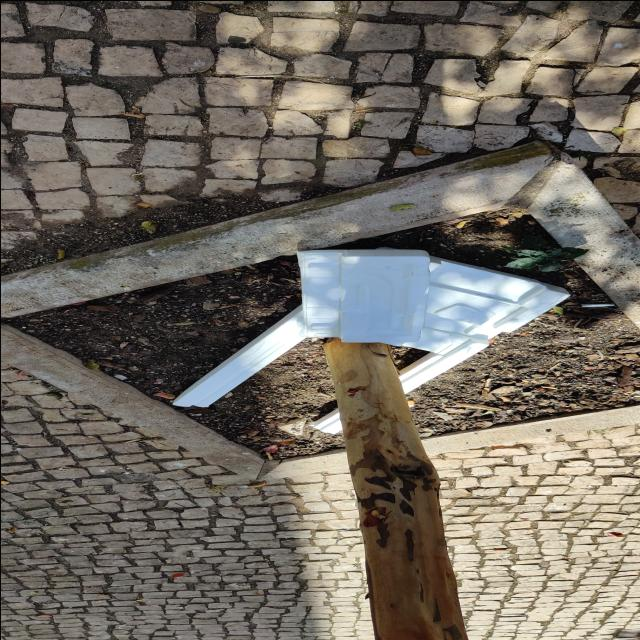Cigarette: (580, 303, 613, 306), (124, 437, 141, 441), (406, 398, 413, 406)
Styrofoam piece: (296, 249, 430, 341)
